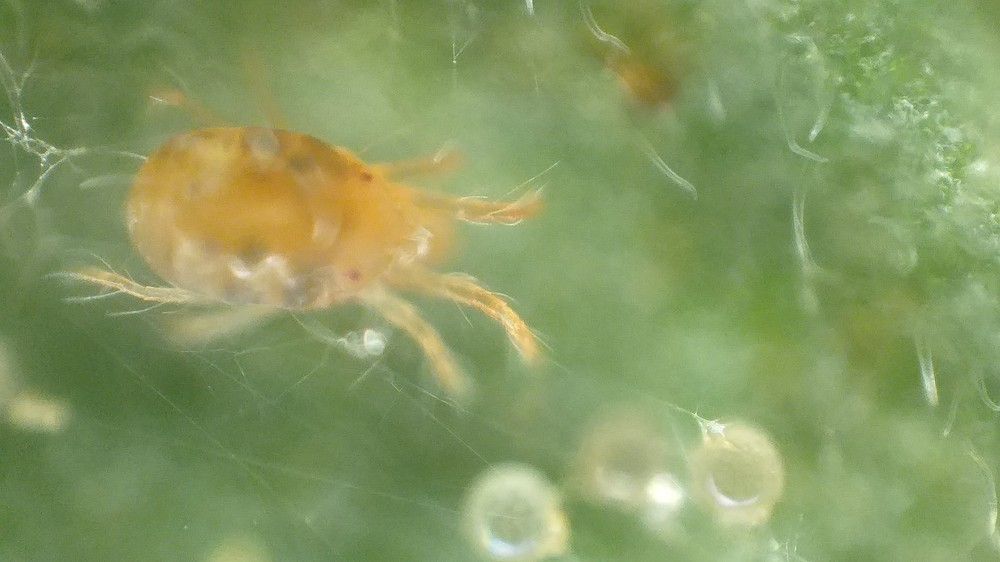Aracnido Rojo: (75, 71, 585, 396)
